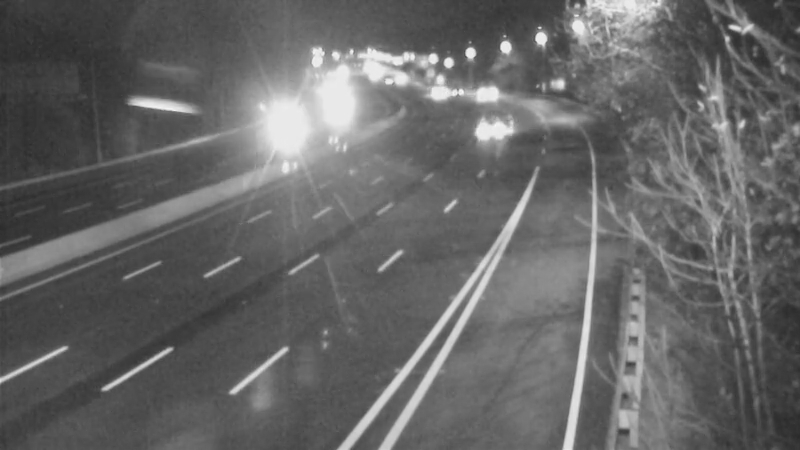vehicle: (372, 56, 422, 106), (405, 70, 455, 120), (429, 65, 479, 115), (458, 70, 508, 120), (467, 106, 517, 156), (263, 95, 313, 145)
